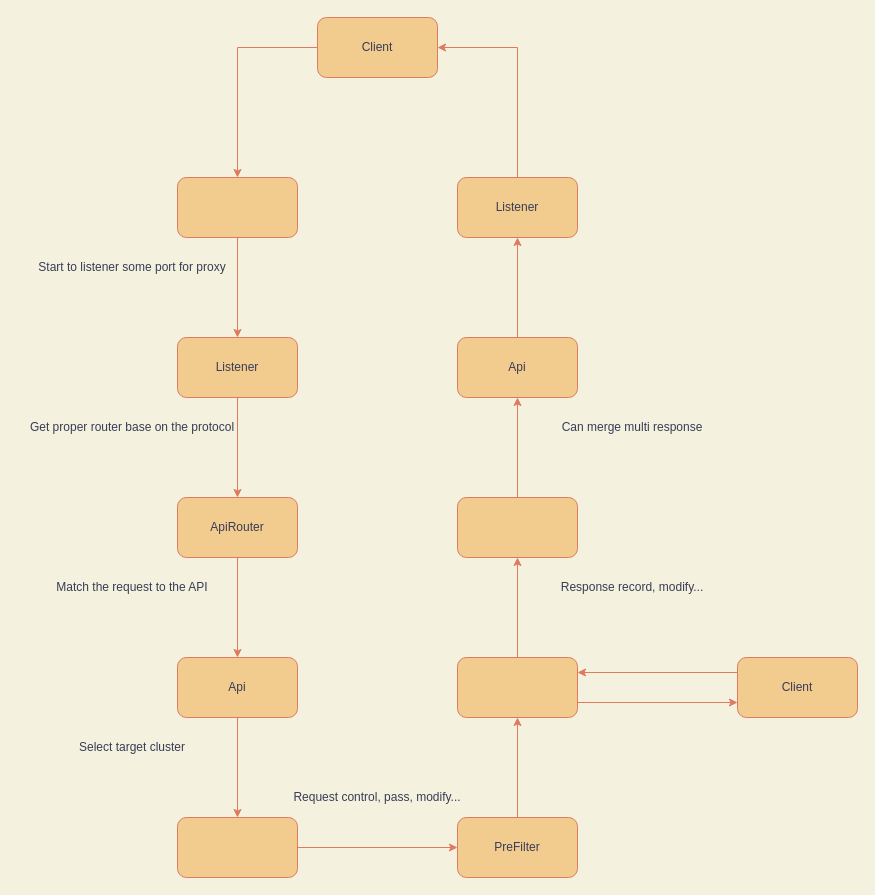
Some shapes in this 875 by 895 pixel diagram are drawn without their labels. Here are the shapes that lost their labels. From the top down, the centre of each, then its label:
At (x=237, y=207): "Proxy".
At (x=517, y=527): "PostFilter".
At (x=517, y=687): "Call BackEnd".
At (x=237, y=847): "Cluster".
